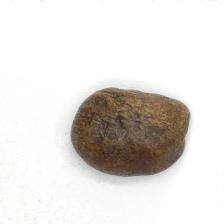NG: (83, 86, 146, 145)
